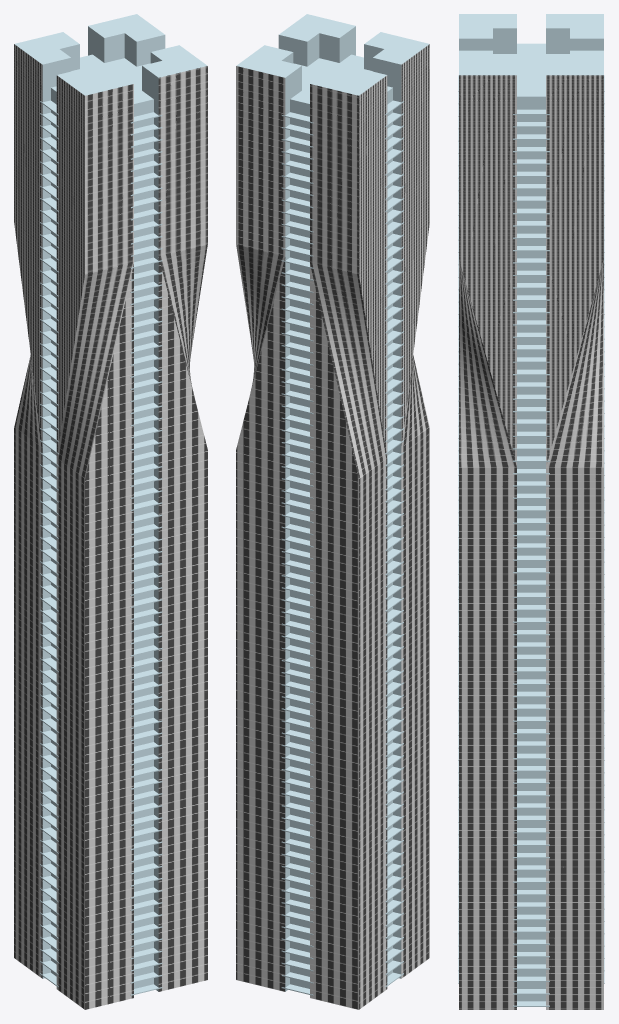
File: Karlatornet_01.fbx
3 views of the same model, side by side, from view 1: azimuth 30°, elevation 25°; view 2: azimuth 150°, elevation 25°; view 3: azimuth 270°, elevation 25° (orthographic). The views are drawn at different scales.
Visible parts, largest first — view 1: Karlatornet_Bottom, Karlatornet_Twist, Balcony, Balcony.001, Karlatornet_Inner_twist; view 2: Karlatornet_Bottom, Karlatornet_Twist, Balcony, Balcony.001, Karlatornet_Inner_twist; view 3: Karlatornet_Bottom, Balcony.001, Karlatornet_Twist, Karlatornet_Inner_twist, Balcony.
Part boxes in pixels (x1,y1,x2,y2): Karlatornet_Bottom: (14, 14, 207, 1009); Karlatornet_Twist: (14, 245, 207, 478); Balcony: (130, 112, 162, 995); Balcony.001: (40, 100, 58, 987); Karlatornet_Inner_twist: (14, 223, 84, 457); Karlatornet_Bottom: (236, 14, 429, 1009); Karlatornet_Twist: (236, 245, 429, 478); Balcony: (281, 112, 313, 995); Balcony.001: (385, 100, 403, 987); Karlatornet_Inner_twist: (359, 223, 429, 457); Karlatornet_Bottom: (459, 14, 603, 1009); Balcony.001: (513, 109, 549, 1006); Karlatornet_Twist: (459, 259, 603, 467); Karlatornet_Inner_twist: (459, 258, 603, 466); Balcony: (458, 75, 604, 983).
Size of the model in its own units: 3528 by 24900 by 3528.
